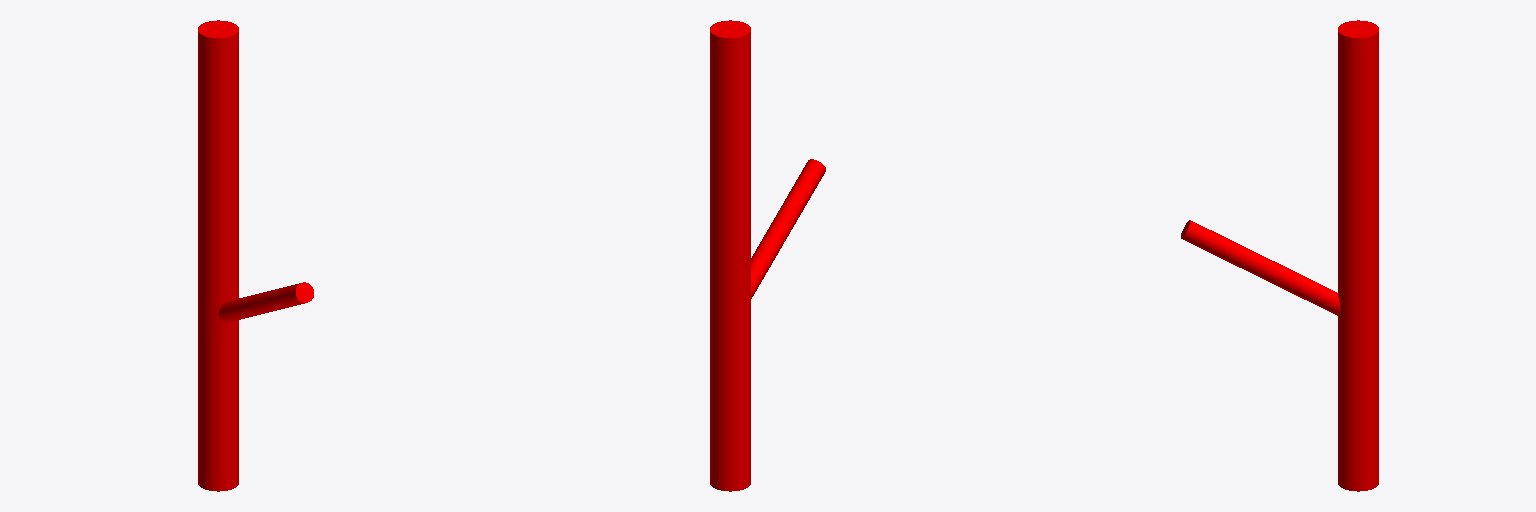
The robot description file, URDF, robot "tree.urdf":
<?xml version="1.0" ?>
<robot name="tree.urdf">
  <link name="baseLink">
    <inertial>
      <origin rpy="0 0 0" xyz="0 0 0"/>
       <mass value=".1"/>
       <inertia ixx="1" ixy="0" ixz="0" iyy="1" iyz="0" izz="1"/>
    </inertial>
    <contact>
      <lateral_friction value="1.0"/>
      <inertia_scaling value="3.0"/>
    </contact>
    <visual>
      <origin rpy="0 0 0" xyz="0 0 0"/>
      <geometry>
        <mesh filename="1.stl" scale="1 1 1" />
      </geometry>
      <material name="red">
        <color rgba="1 0 0 1"/>
      </material>
    </visual>
    <collision>
      <origin rpy="0 0 0" xyz="0 0 0"/>
      <geometry>
        <mesh filename="1_convex.obj" scale="1 1 1" />
      </geometry>
    </collision>
  </link>
</robot>

--- Render facts (derived) ---
Views: 3 orthographic renders of the robot side by side, from view 1: azimuth 30°, elevation 25°; view 2: azimuth 150°, elevation 25°; view 3: azimuth 270°, elevation 25°.
Model tree.urdf with 1 links and 0 joints (none), rooted at baseLink, posed all joints at 0.
Visible links, largest first — view 1: baseLink; view 2: baseLink; view 3: baseLink.
Boxes of the visible links, <box> form: baseLink: <box>198,20,313,491</box>; baseLink: <box>710,20,825,491</box>; baseLink: <box>1181,20,1378,491</box>.
Size in the robot's own frame: 0.0369 by 0.1759 by 0.4426 metres.
Meshes: 1 distinct files referenced, 1 mesh visuals loaded (1 binary STL).